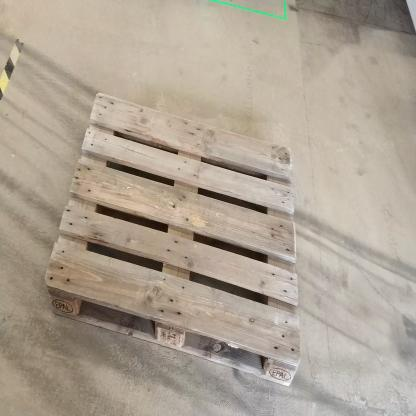BoxFace: (37, 83, 305, 401)
